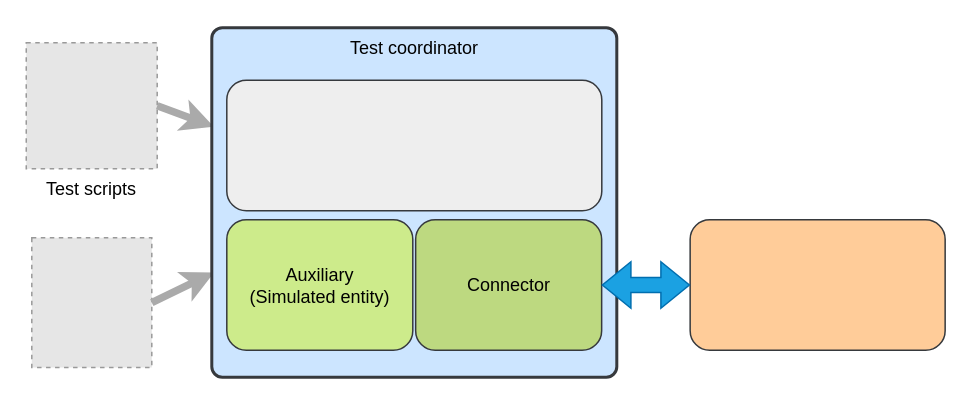
The diagram is 972 pixels wide and 404 high, and some of its shapes have lost their labels. Grey dashed boxes stand in for pictures. The shapes that lost their labels are listed below. From the top down, each one's centre as x and y in pixels, then its label:
At (413,145): "Python unit testing framework".
At (817,284): "Device under test".
